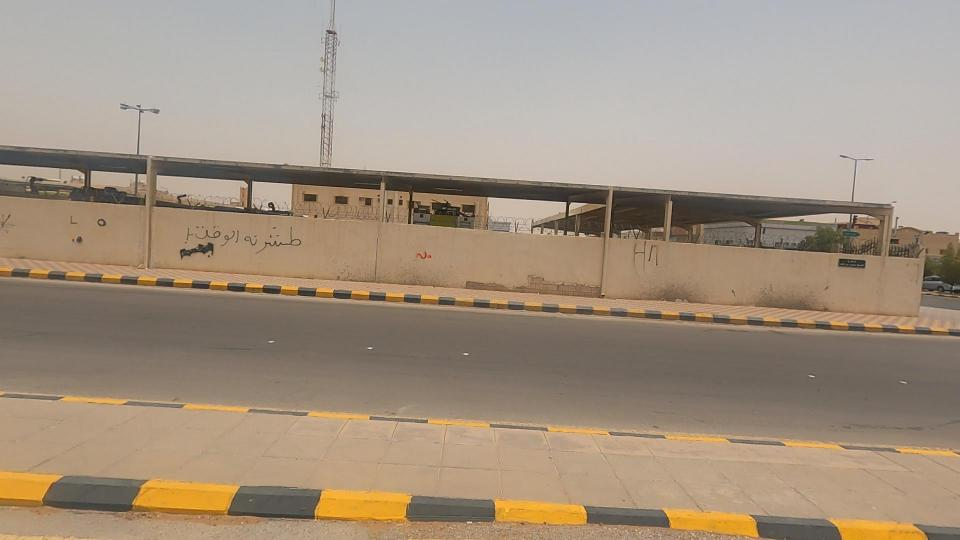GRAFFITI: (98, 195, 380, 286), (594, 222, 698, 293), (42, 190, 108, 269), (77, 201, 136, 251), (397, 234, 463, 278)
